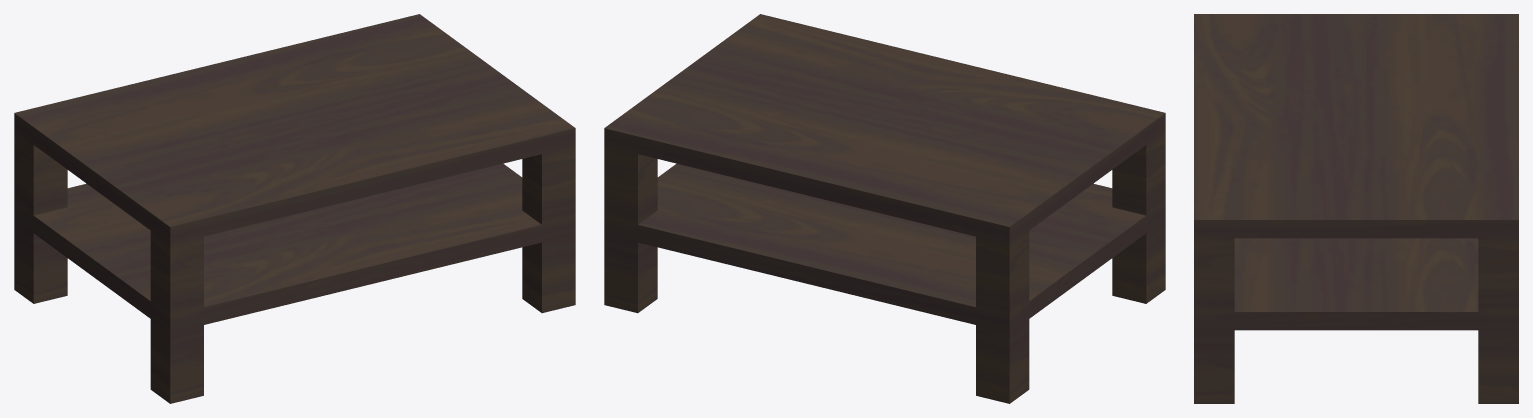
File: small_table.fbx
The picture shows the model from 3 angles, left to right: view 1: azimuth 30°, elevation 25°; view 2: azimuth 150°, elevation 25°; view 3: azimuth 270°, elevation 25°; orthographic projection. The views are drawn at different scales.
Visible parts, largest first — view 1: small_table.001; view 2: small_table.001; view 3: small_table.001.
Part boxes in pixels (x1,y1,x2,y2): small_table.001: [14, 14, 575, 403]; small_table.001: [604, 14, 1165, 403]; small_table.001: [1194, 14, 1518, 403].
Size of the model in its own units: 1.33 by 0.5542 by 0.8868.
Materials: 1 (1 with a texture image).
